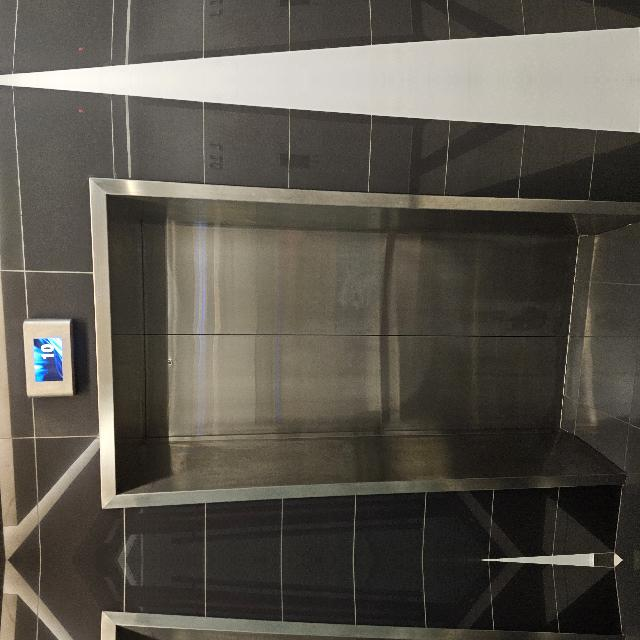door: (40, 163, 395, 640), (40, 403, 395, 640)
